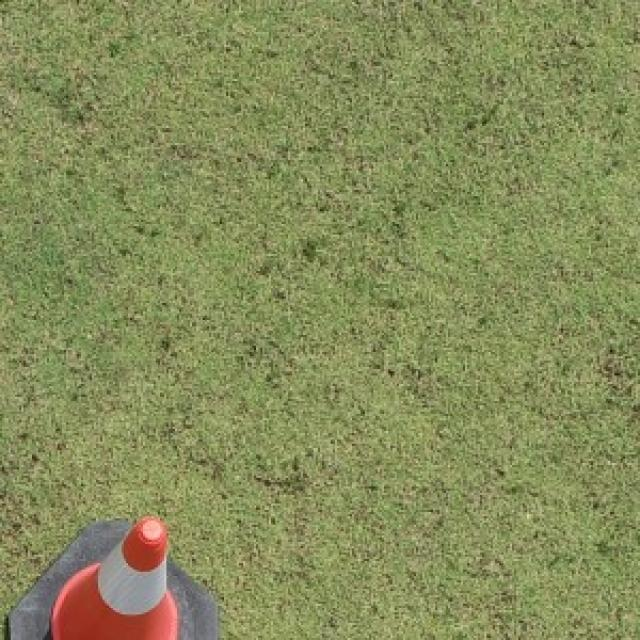cone: (6, 514, 218, 638)
